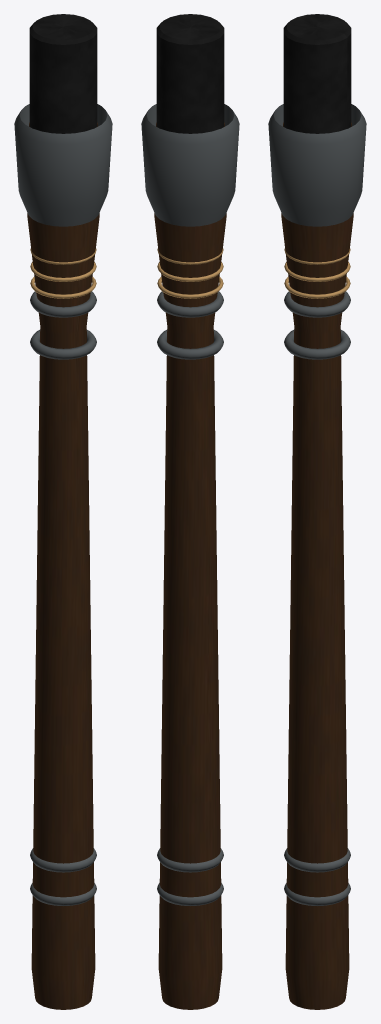
File: torch.glb
The picture shows the model from 3 angles, left to right: view 1: azimuth 30°, elevation 25°; view 2: azimuth 210°, elevation 25°; view 3: azimuth 330°, elevation 25°; orthographic projection.
Visible parts, largest first — view 1: torch; view 2: torch; view 3: torch.
Boxes of the visible parts, x1,y1,x2,y2 form: torch: (14,14,112,1009); torch: (141,14,239,1009); torch: (268,14,366,1009).
Bounding box in the file's own units: 0.11 × 1.2 × 0.11.
4 materials, 2 textured.
